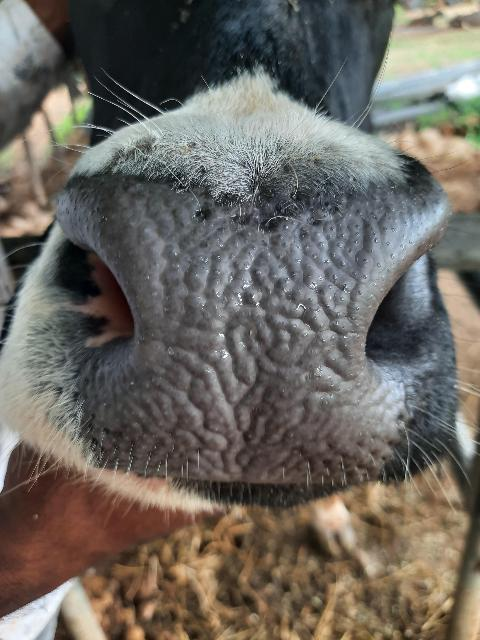Muzzle: (98, 180, 390, 472)
